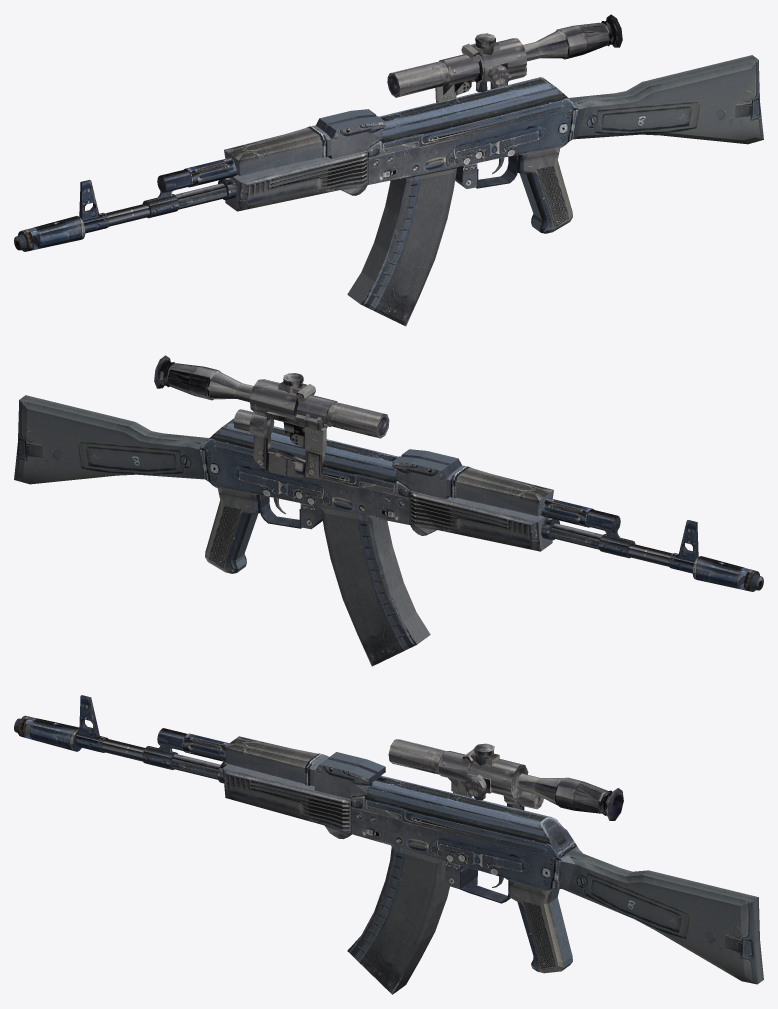
The model's file is w_ak74m_pso.obj.
The picture shows the model from 3 angles, top to bottom: view 1: azimuth 30°, elevation 25°; view 2: azimuth 150°, elevation 25°; view 3: azimuth 330°, elevation 25°; orthographic projection.
Visible parts, largest first — view 1: Cube, W_Pso1; view 2: Cube, W_Pso1; view 3: Cube, W_Pso1.
Boxes of the visible parts, x1,y1,x2,y2 form: Cube: (14,55,763,326); W_Pso1: (387,14,622,102); Cube: (14,395,763,666); W_Pso1: (154,355,389,479); Cube: (14,695,763,994); W_Pso1: (388,739,623,820).
Bounding box in the file's own units: 15.02 × 5.08 × 0.9782.
